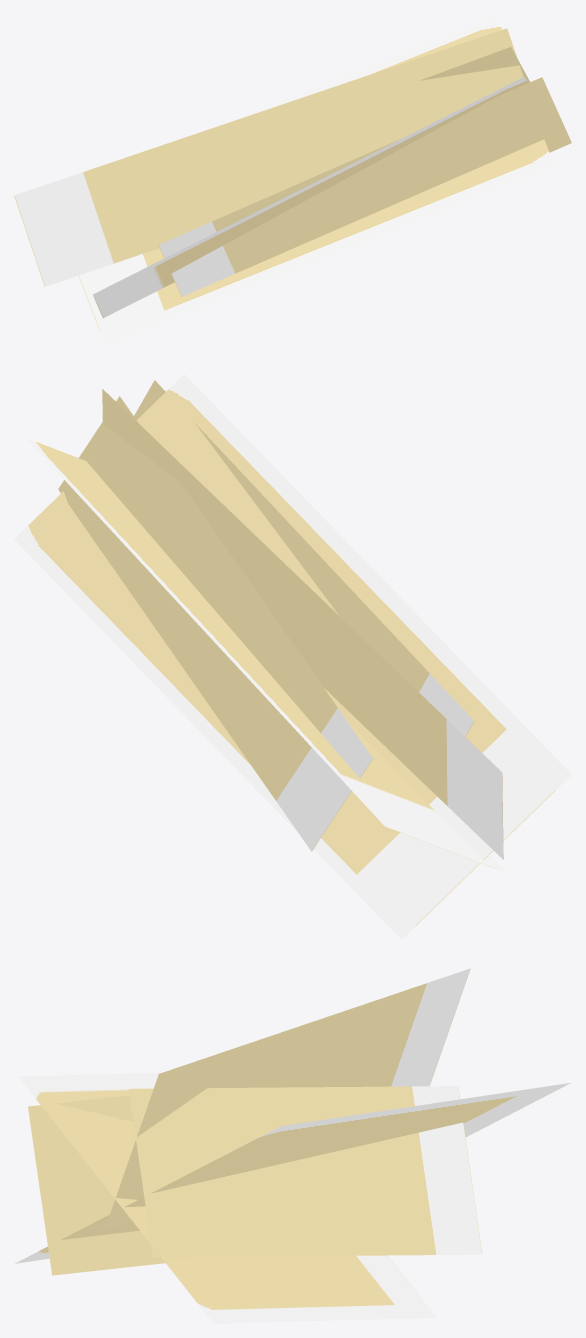
File: raylight.glb
The picture shows the model from 3 angles, top to bottom: view 1: azimuth 30°, elevation 25°; view 2: azimuth 150°, elevation 25°; view 3: azimuth 270°, elevation 25°; orthographic projection. The views are drawn at different scales.
Parts seen in each view (by area): view 1: ray2, ray3, ray1, ray, ray4; view 2: ray, ray4, ray2, ray1, ray3; view 3: ray4, ray, ray2, ray1, ray3.
Part boxes in pixels (left/top/right/bottom): ray2: left=14, top=28, right=523, bottom=286; ray3: left=158, top=77, right=571, bottom=296; ray1: left=78, top=14, right=553, bottom=345; ray: left=93, top=76, right=527, bottom=318; ray4: left=419, top=47, right=529, bottom=82; ray: left=14, top=374, right=571, bottom=939; ray4: left=58, top=396, right=373, bottom=851; ray2: left=102, top=389, right=503, bottom=859; ray1: left=26, top=438, right=508, bottom=873; ray3: left=134, top=380, right=474, bottom=736; ray4: left=128, top=1086, right=482, bottom=1257; ray: left=18, top=1072, right=436, bottom=1323; ray2: left=104, top=968, right=470, bottom=1230; ray1: left=14, top=1082, right=571, bottom=1263; ray3: left=28, top=1095, right=165, bottom=1275.
Size of the model in its own units: 2387 by 1475 by 1467.
1 material, 1 textured.
